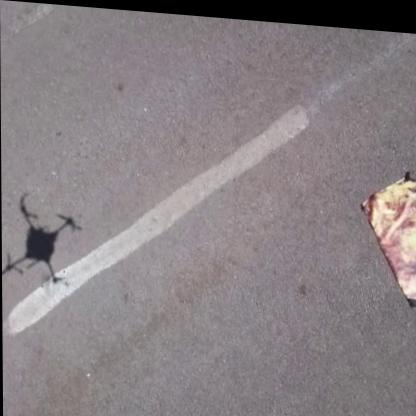fire-poster: (360, 157, 416, 303)
